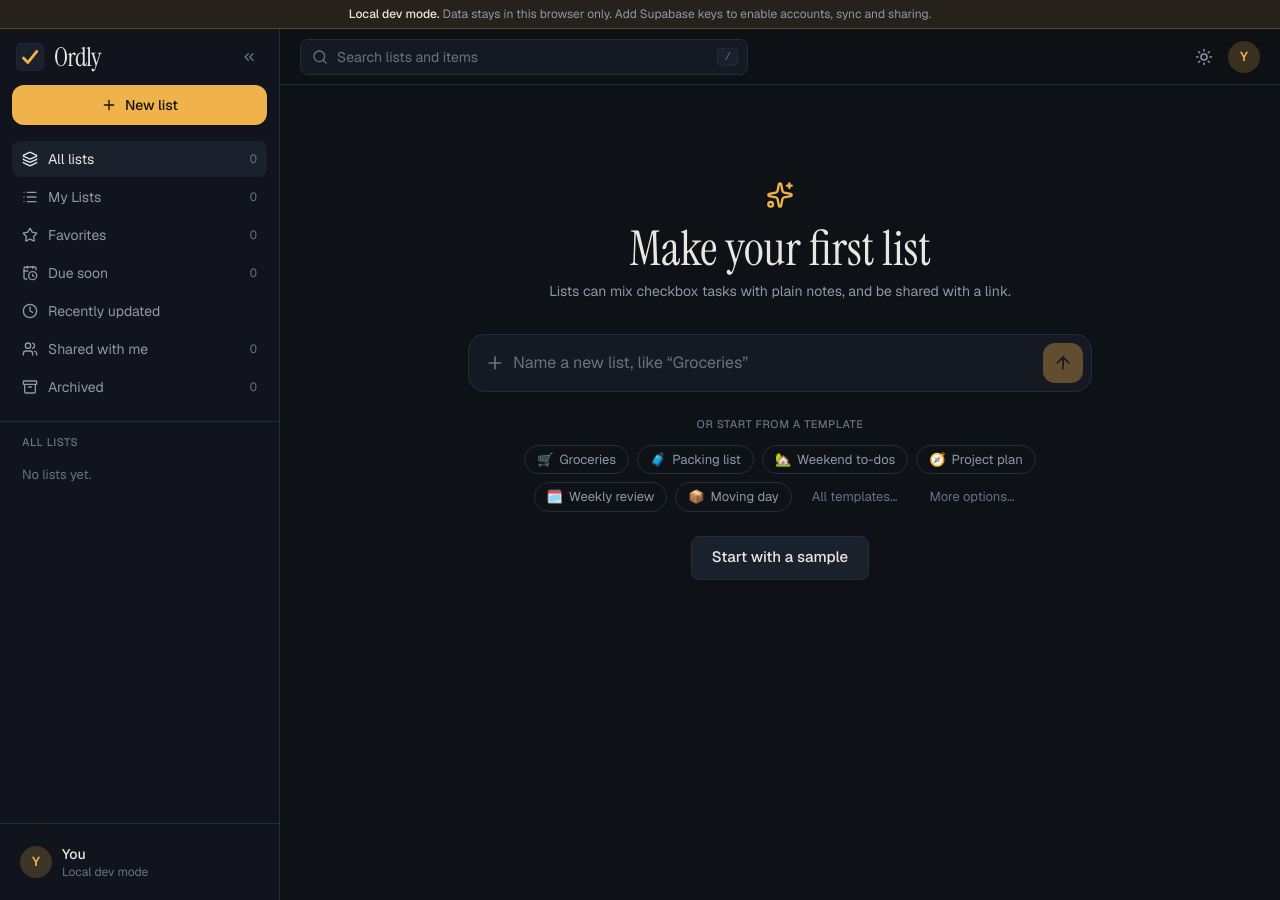
Test case: workspace (local dev mode) › creates, favorites, and deletes lists with confirmation
Click the button with aria-label "create new list".
click(140, 105)  # box [12,85,267,125]
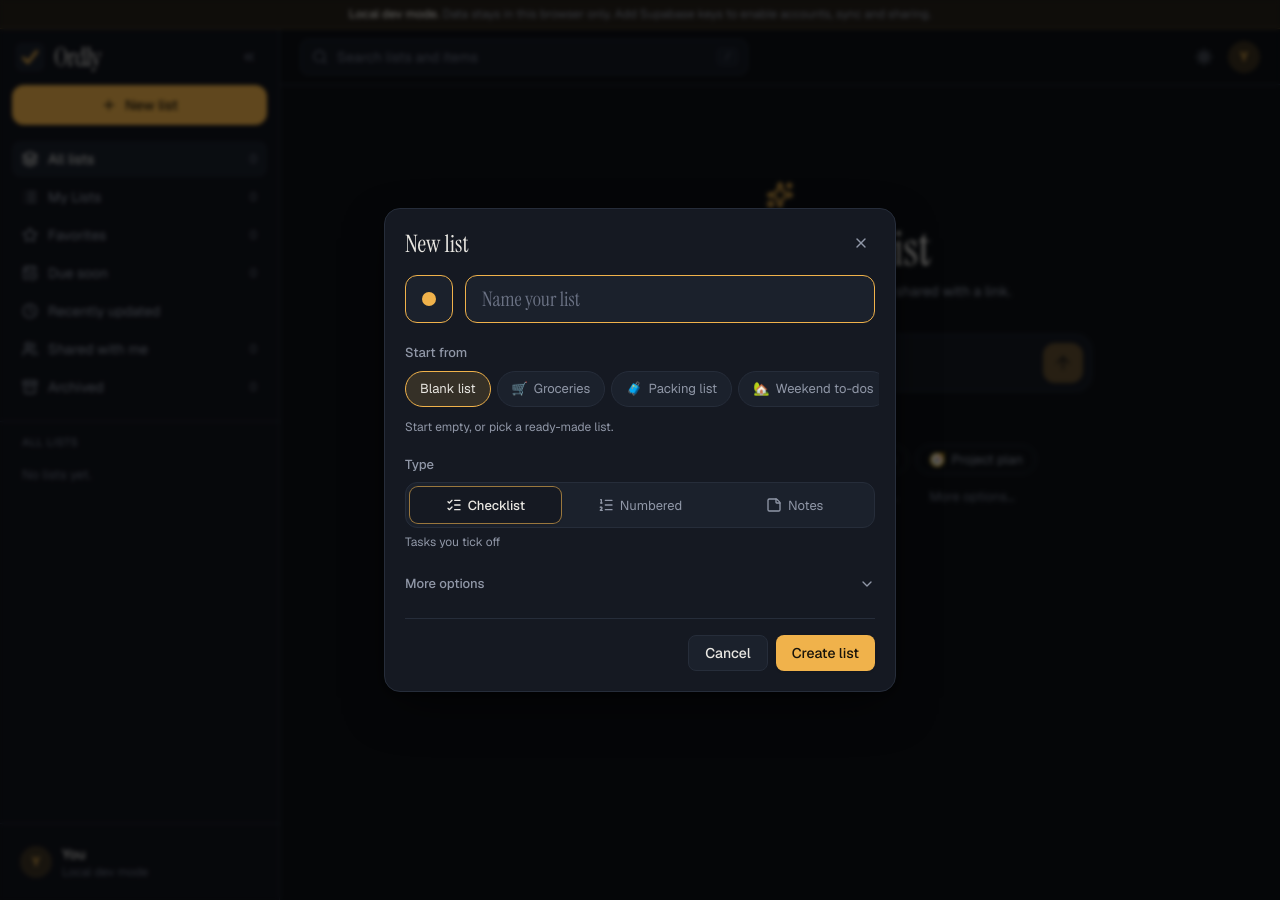
Type "Groceries" into the field labelled "Name your list".
click(670, 299); type("Groceries")  # box [465,275,875,323]
Click the button "Create list".
click(825, 653)  # box [776,635,875,671]
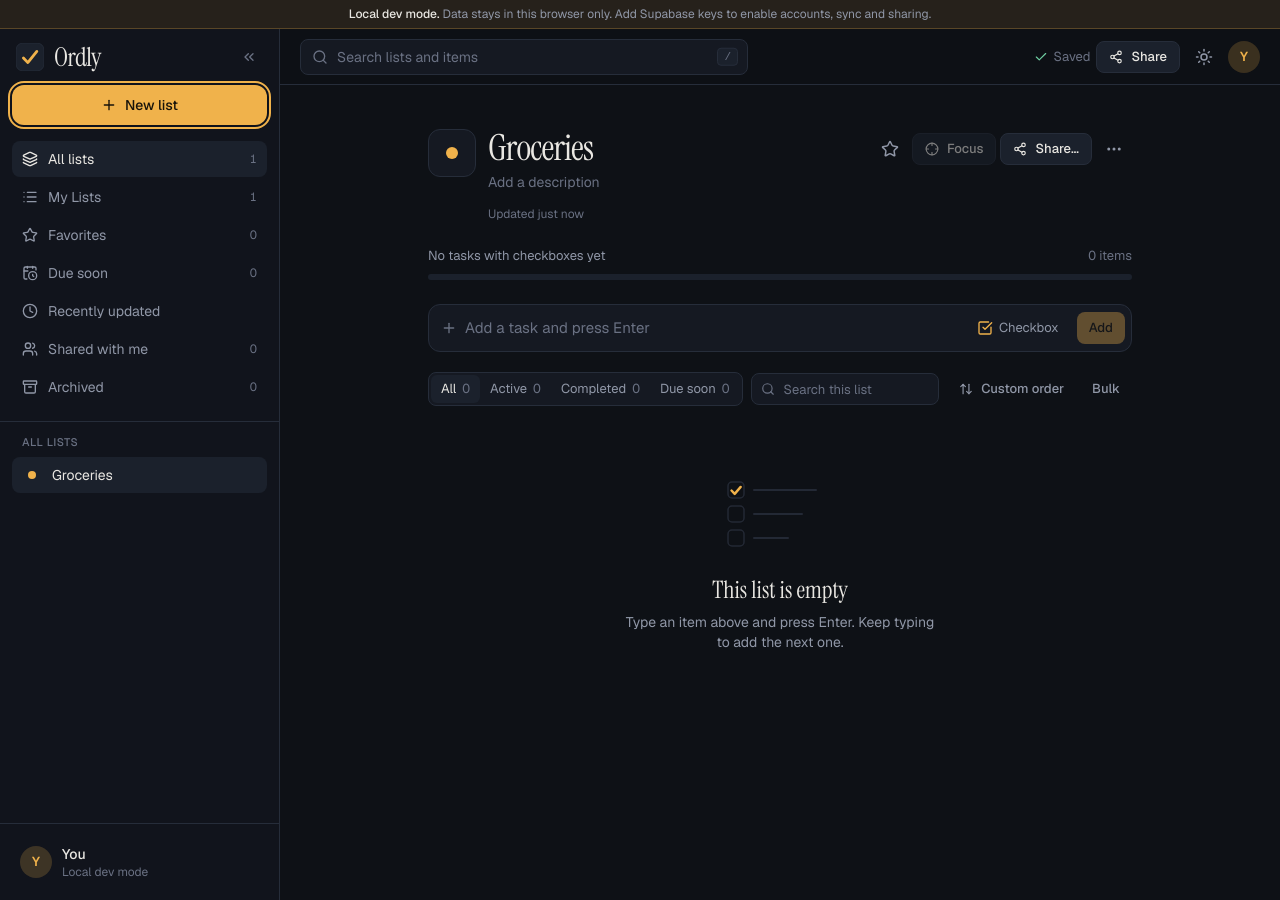
Expected: the field showing "Groceries" is shown, [488,125,860,170]
Expected: the heading "This list is empty" is shown, [712,574,848,606]
Click the button named "add to favorites".
click(890, 149)  # box [872,131,908,167]
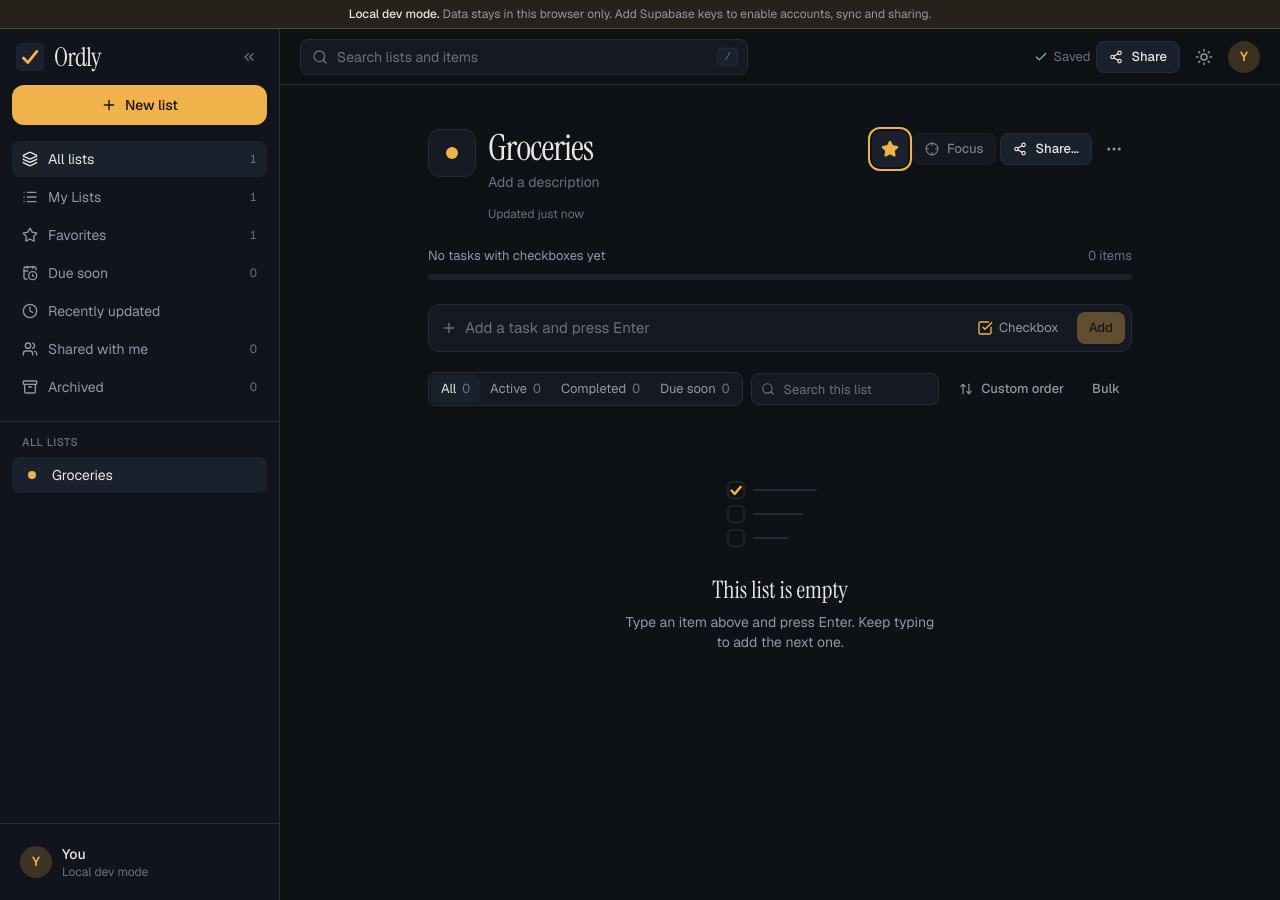
Expected: the button named "remove from favorites" is shown, [872,131,908,167]
Click the button named "list actions".
click(1114, 149)  # box [1096,131,1132,167]
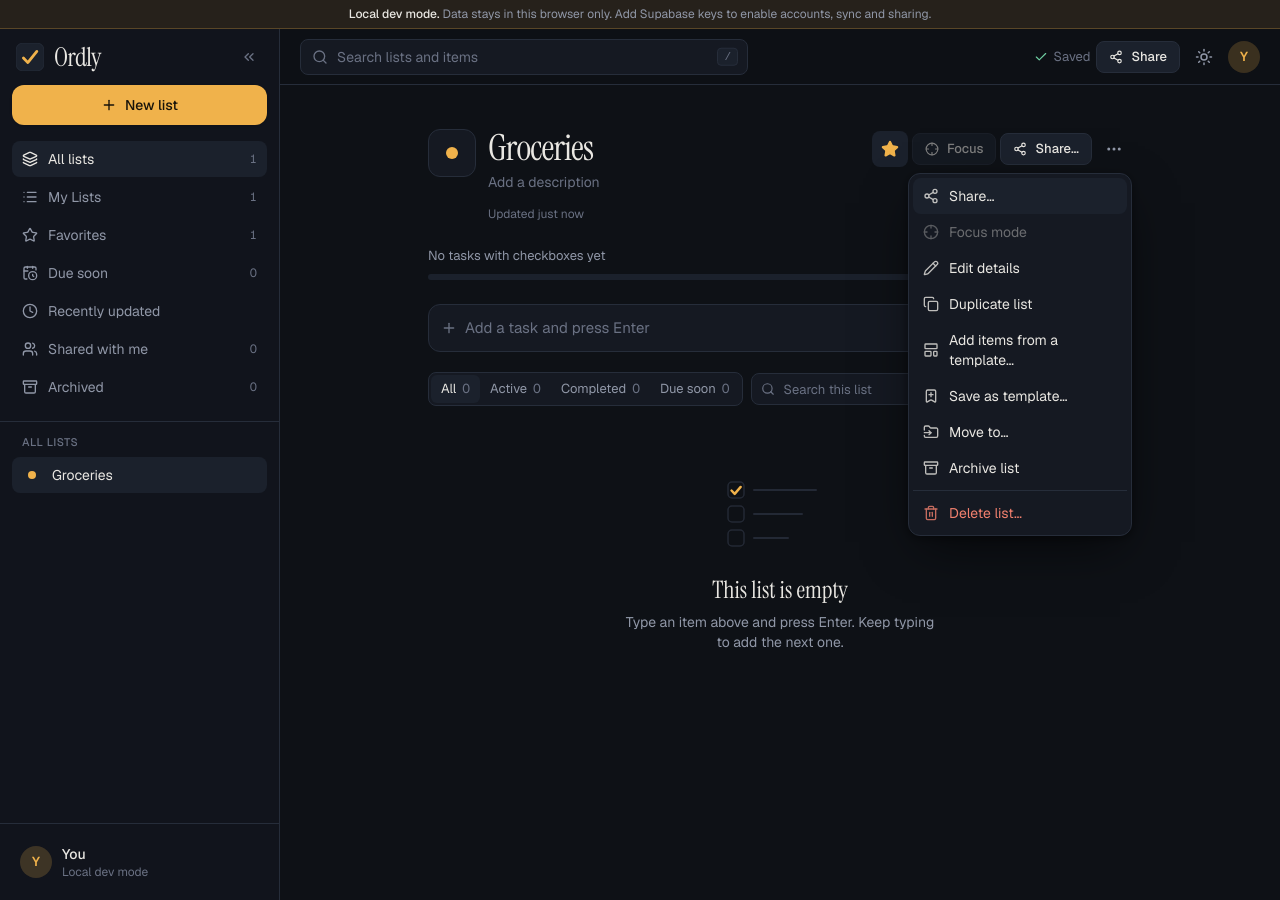
Click the menu item "Delete list…".
click(1020, 513)  # box [913,495,1127,531]
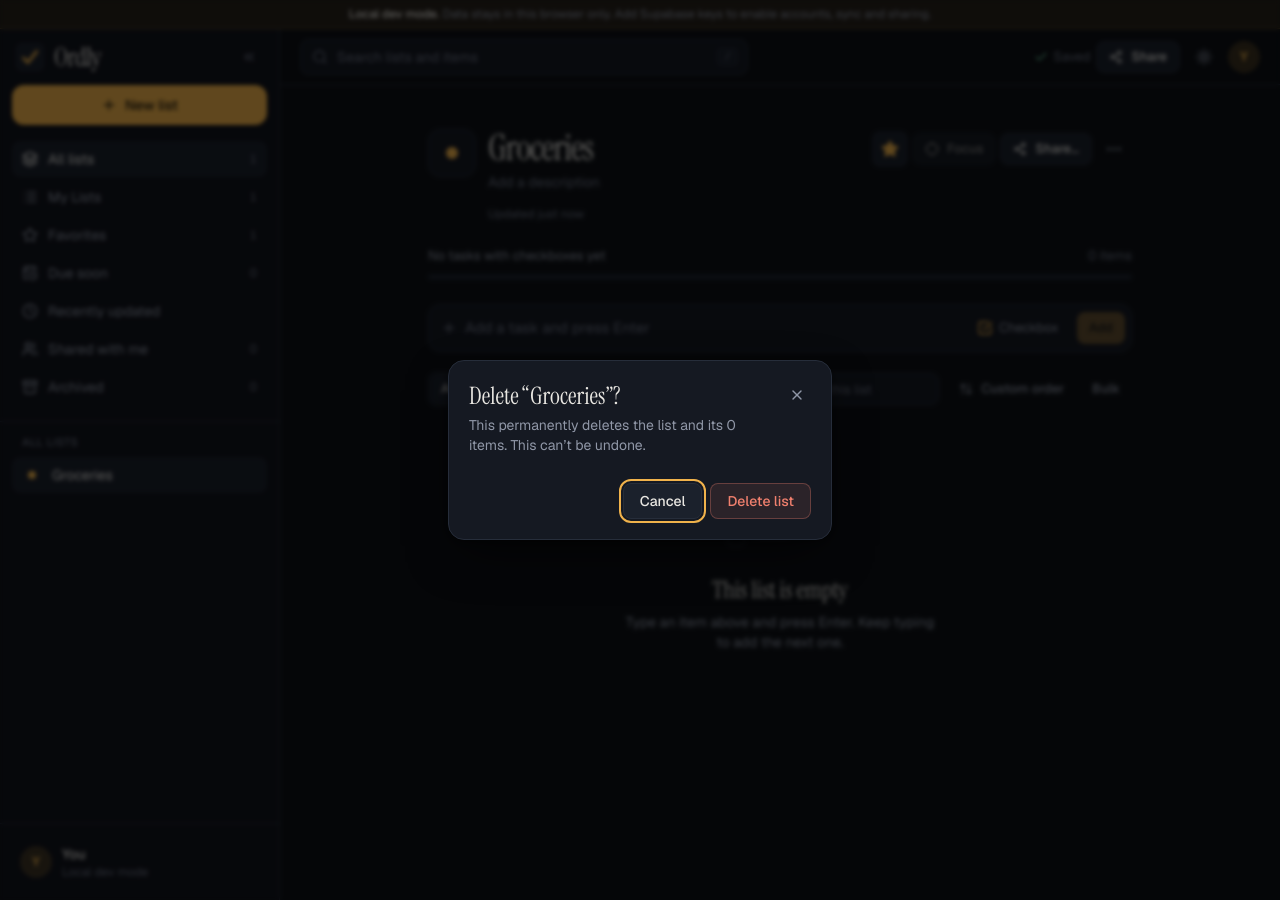
Click the button "Delete list".
click(761, 501)  # box [710,483,811,519]
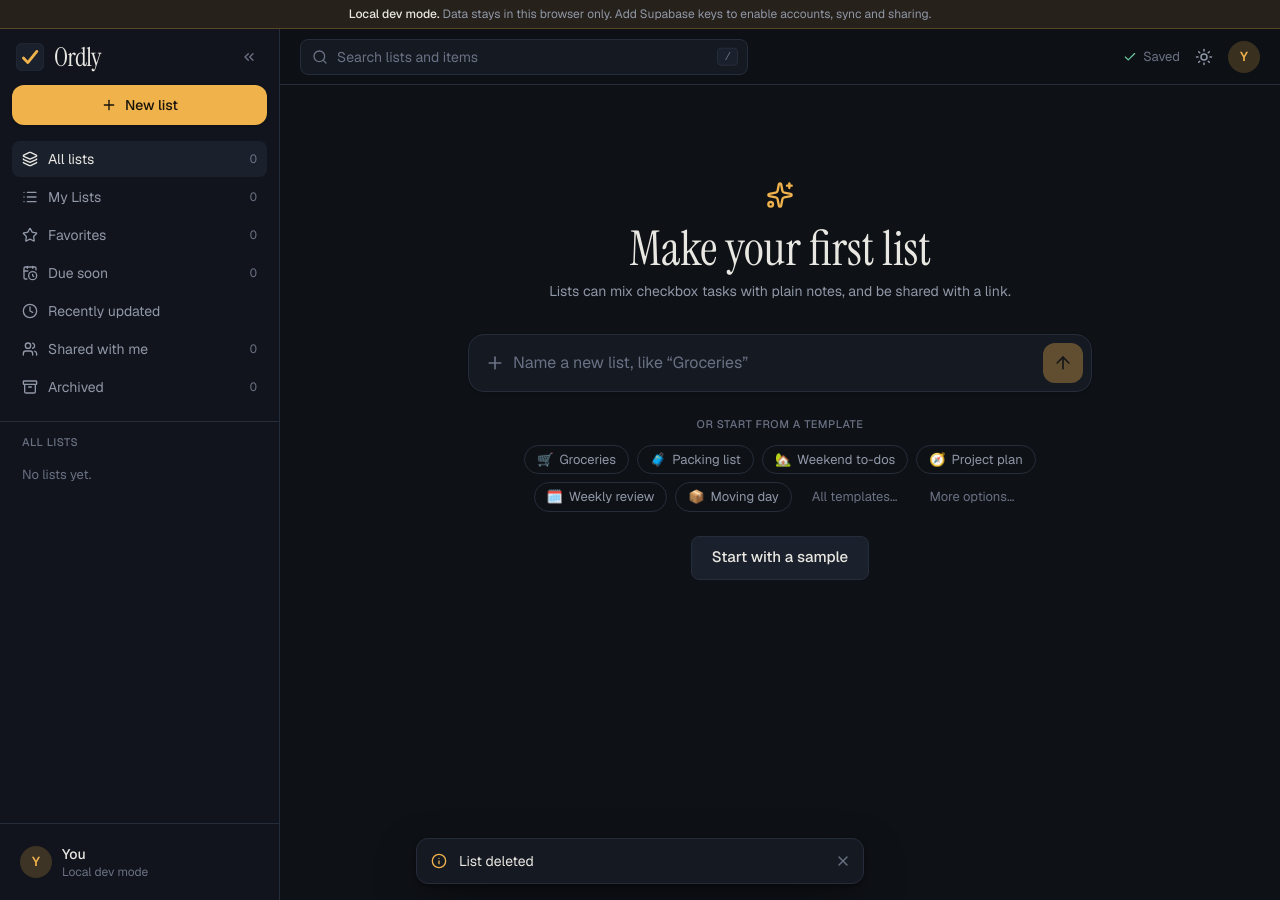
Expected: the heading "Make your first list" is shown, [629,217,931,280]
